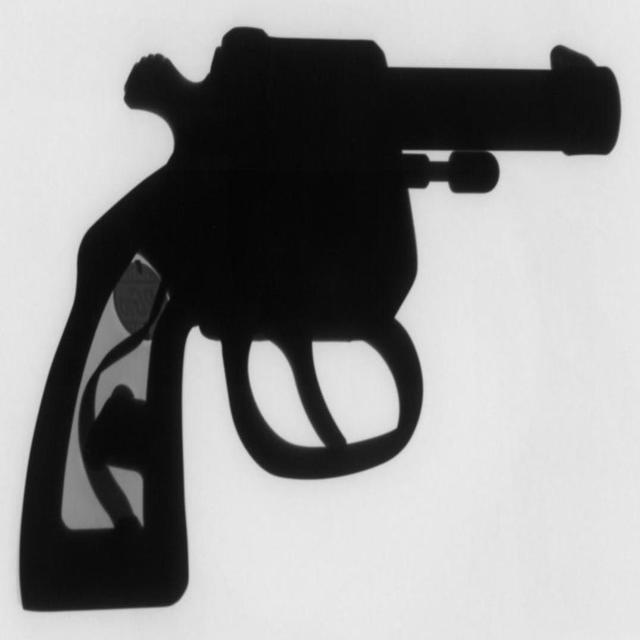gun: (24, 24, 620, 612)
